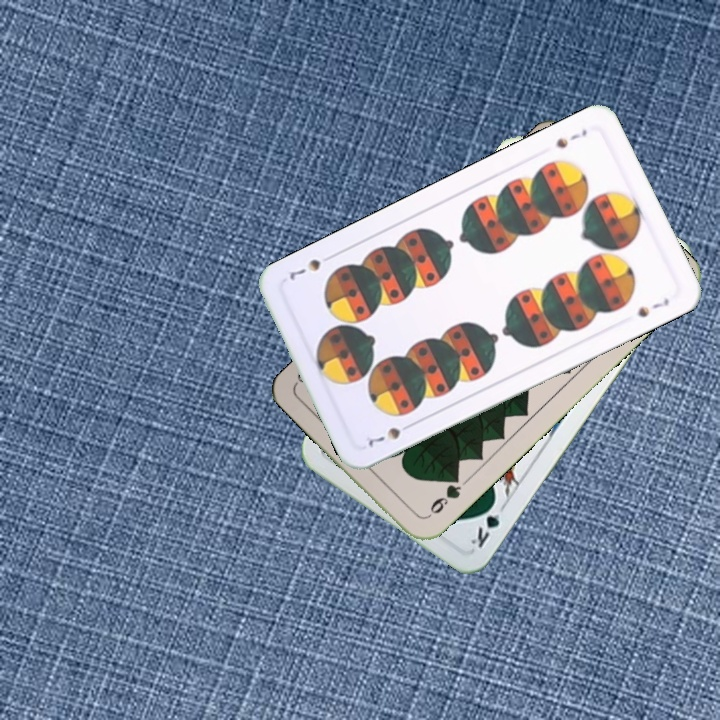G9: (421, 470, 465, 522)
GK: (466, 495, 509, 551)
S7: (364, 418, 417, 449), (551, 125, 590, 151)
